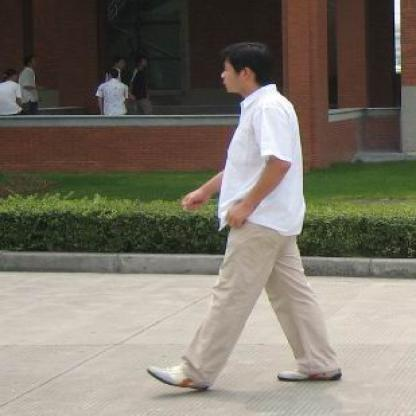person: (144, 39, 344, 392)
